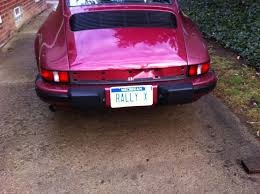Dent: (127, 66, 167, 81)
